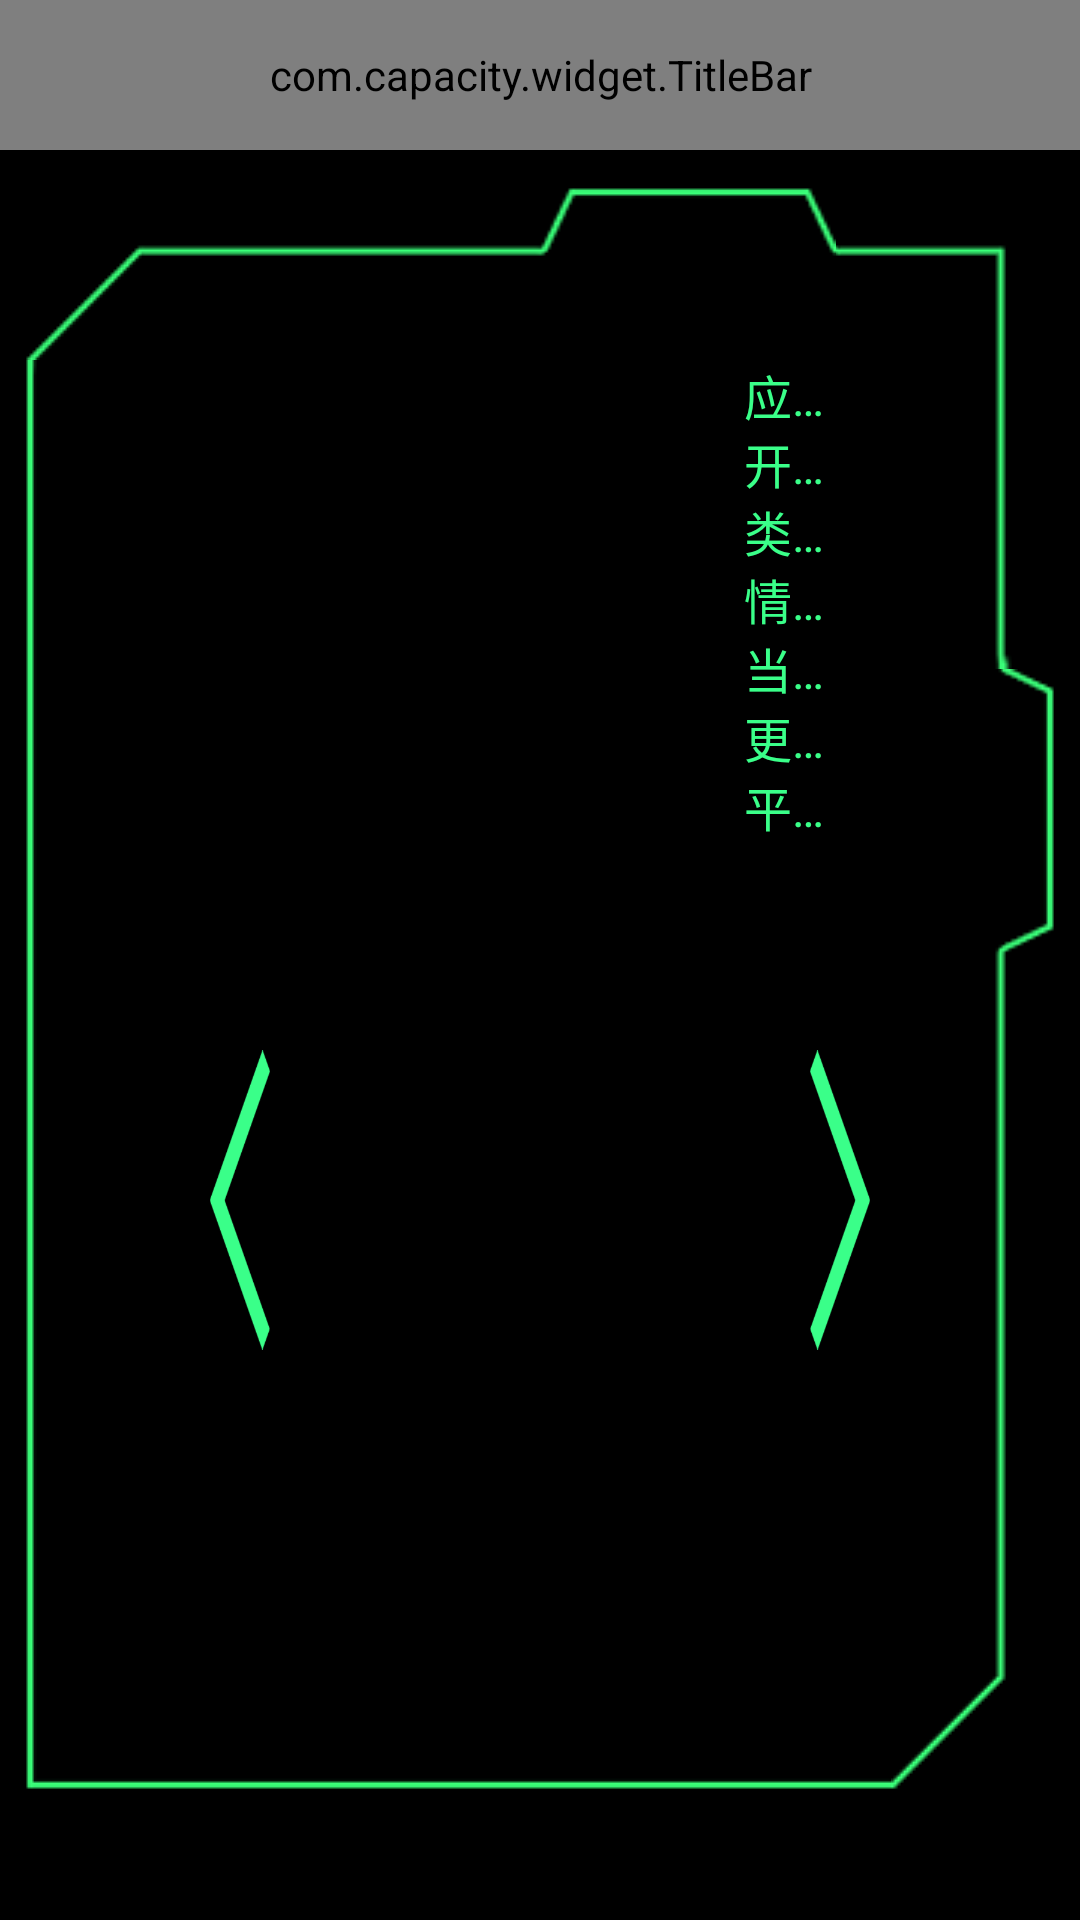

Icons on this 1080 x 1920 Android screen, each with the point to tap as (x=x, y=y):
left arrow: (x=240, y=1200)
right arrow: (x=840, y=1200)
